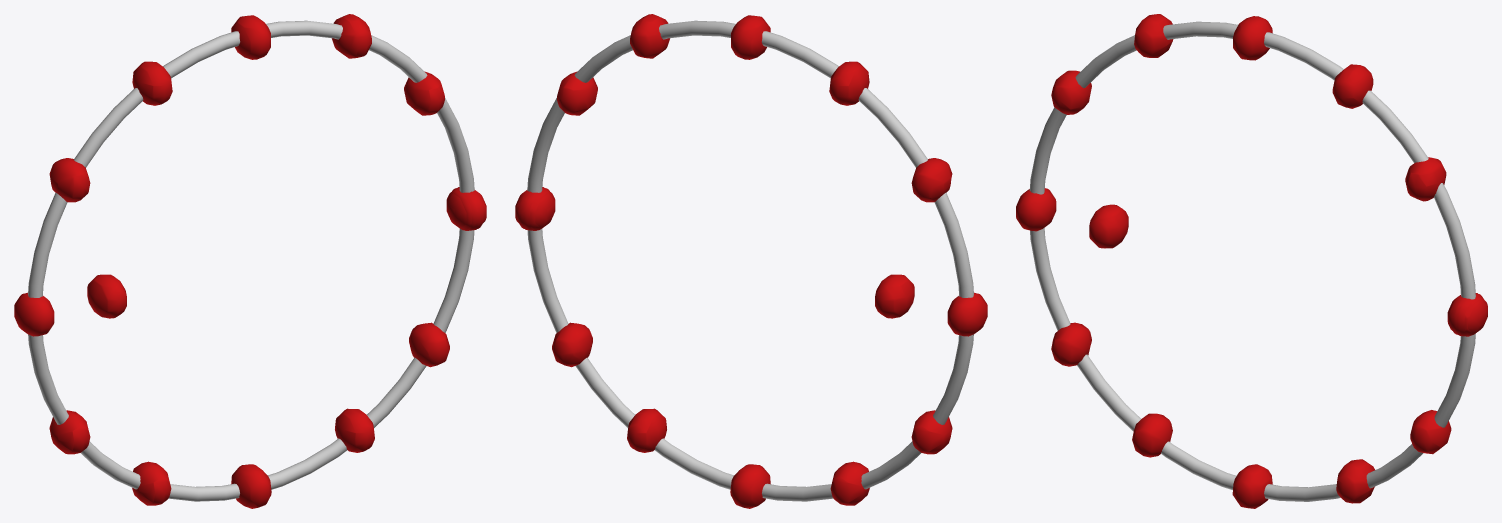
3 renders of one model, left to right at view 1: azimuth 30°, elevation 25°; view 2: azimuth 150°, elevation 25°; view 3: azimuth 330°, elevation 25°, orthographic.
Visible parts, largest first — view 1: Electron_Mball, Ring_Torus, Electron.001_Mball.004; view 2: Electron_Mball, Ring_Torus, Electron.001_Mball.004; view 3: Ring_Torus, Electron_Mball, Electron.001_Mball.004.
Part boxes in pixels (bbox=[...]): Electron_Mball: bbox=[14, 14, 486, 508]; Ring_Torus: bbox=[28, 20, 474, 501]; Electron.001_Mball.004: bbox=[87, 187, 486, 318]; Electron_Mball: bbox=[515, 14, 987, 508]; Ring_Torus: bbox=[527, 20, 973, 501]; Electron.001_Mball.004: bbox=[515, 187, 914, 318]; Ring_Torus: bbox=[1029, 21, 1475, 501]; Electron_Mball: bbox=[1016, 14, 1487, 508]; Electron.001_Mball.004: bbox=[1089, 204, 1487, 336].
Bounding box in the file's own units: 2.56 × 2.58 × 0.25.
